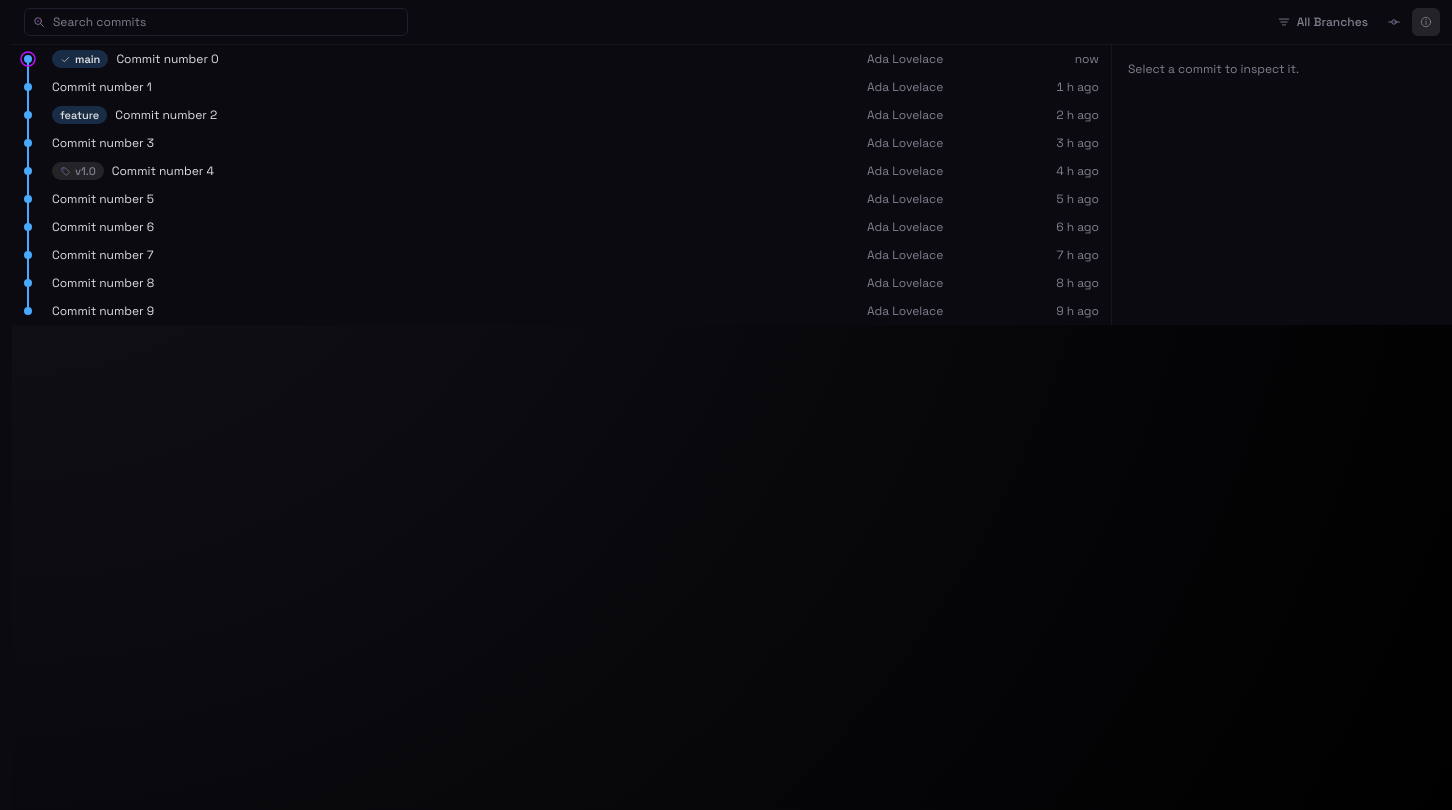
GitGraphView › search › marks matching rows and steps between them with Cmd+G
Type "number 5" into the search field labelled "Search commits".
click(216, 22); type("number 5")  # box [24, 8, 408, 36]
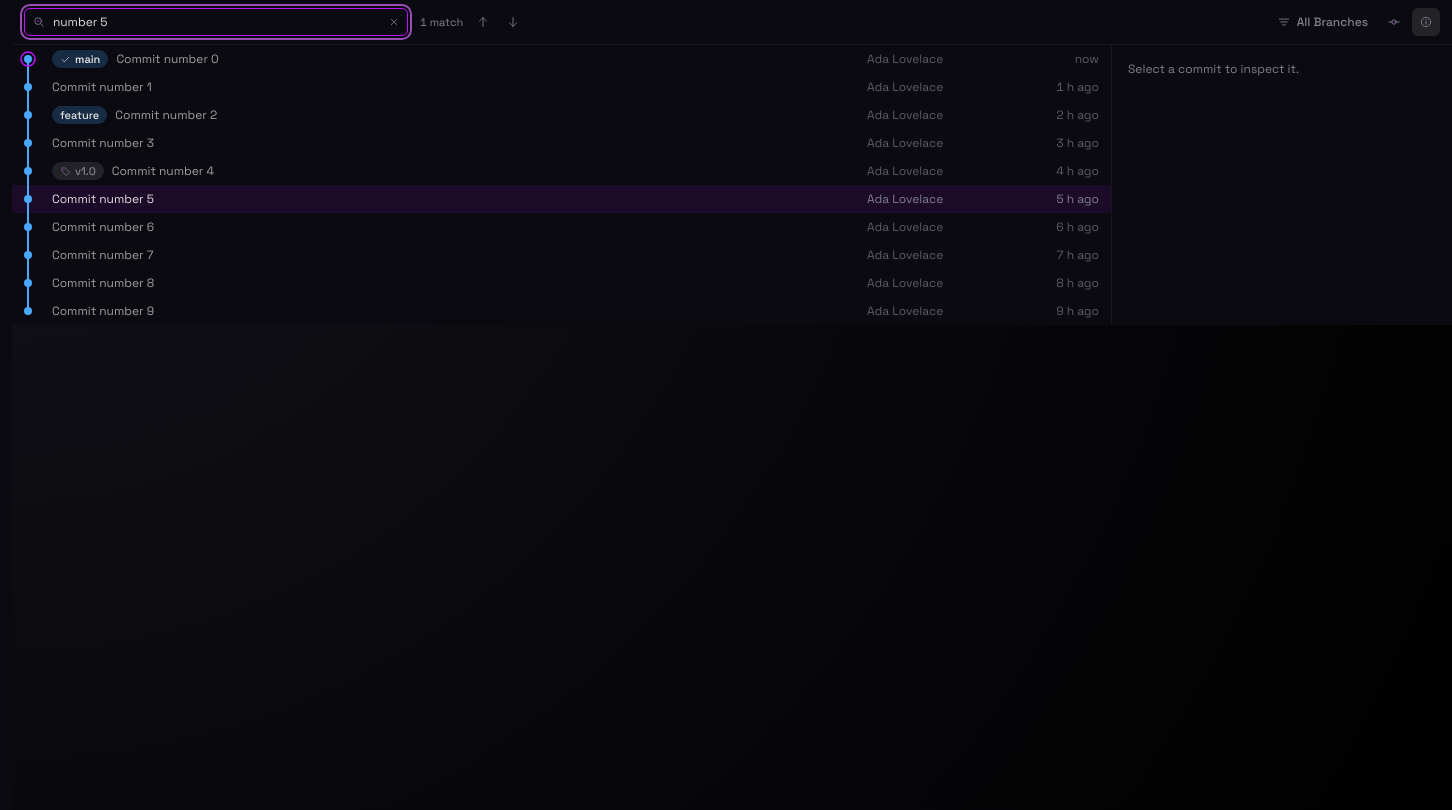
Press g in the element with test id "git-graph", box [12, 0, 1451, 325]
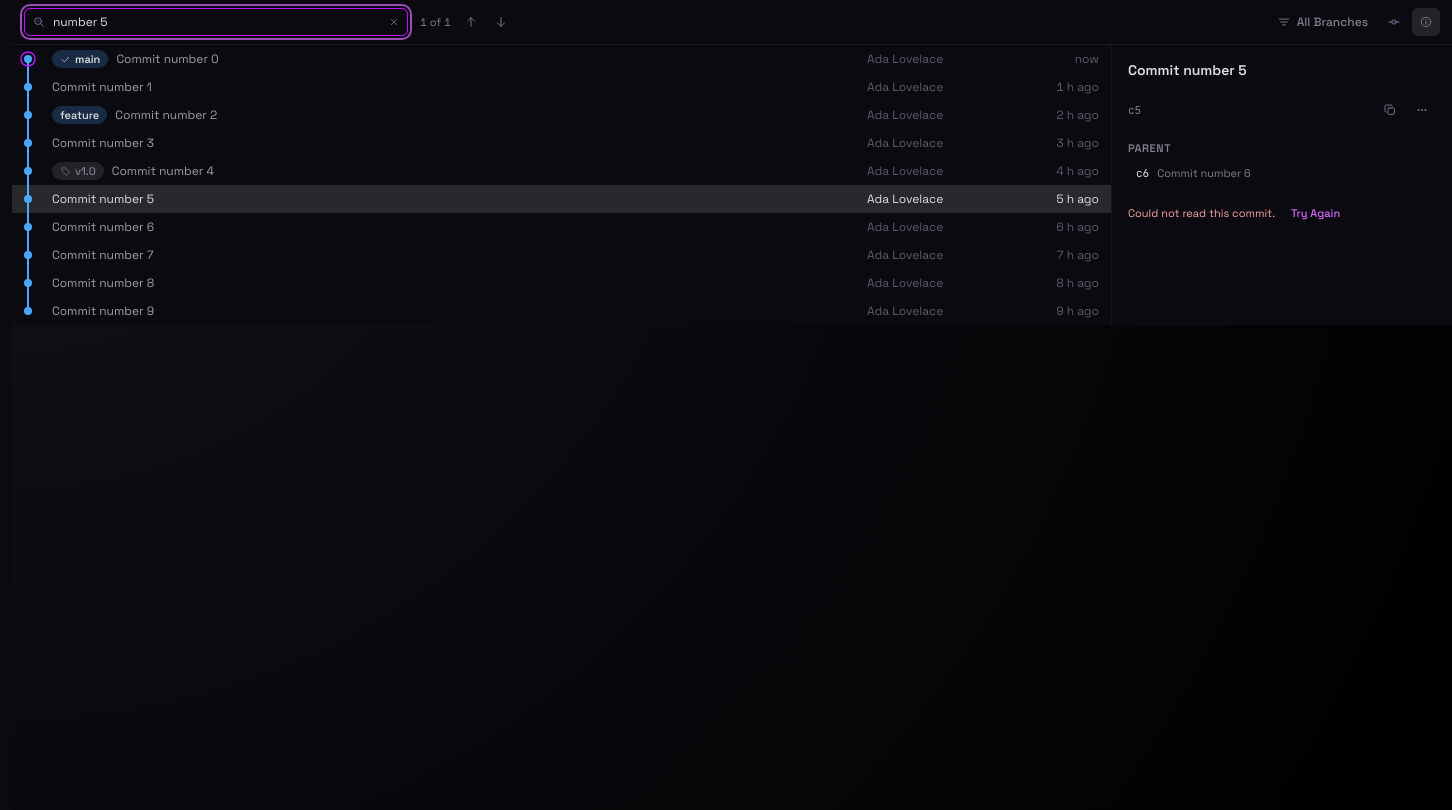
Check: the text "1 of 1" is shown, box [420, 15, 451, 29]
